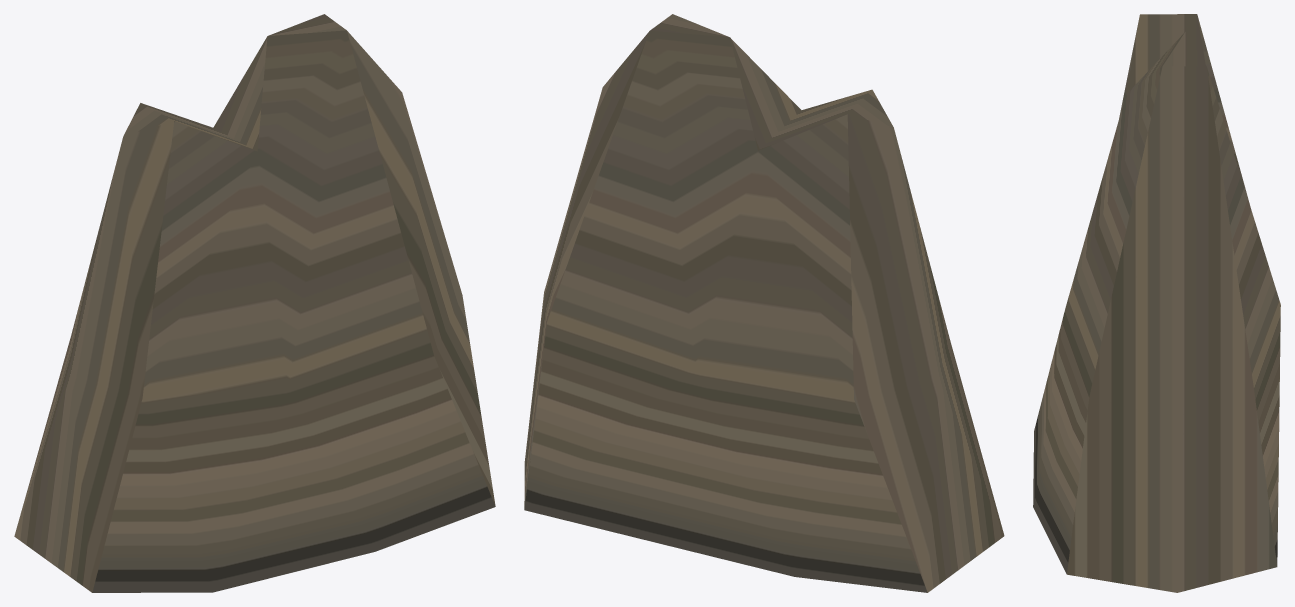
File: rock_gformation3_hdtex.glb
3 views of the same model, side by side, from view 1: azimuth 30°, elevation 25°; view 2: azimuth 150°, elevation 25°; view 3: azimuth 270°, elevation 25° (orthographic). The views are drawn at different scales.
Parts seen in each view (by area): view 1: Rock_GFormation3; view 2: Rock_GFormation3; view 3: Rock_GFormation3.
Part boxes in pixels (x1=…): Rock_GFormation3: x1=14, y1=14, x2=495, y2=592; Rock_GFormation3: x1=524, y1=14, x2=1004, y2=592; Rock_GFormation3: x1=1033, y1=14, x2=1280, y2=592.
Bounding box in the file's own units: 16.11 × 16.83 × 8.17.
1 material, 1 textured.
